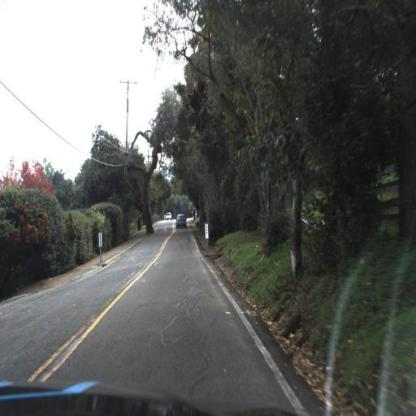car: (174, 213, 191, 234), (164, 211, 175, 224)
